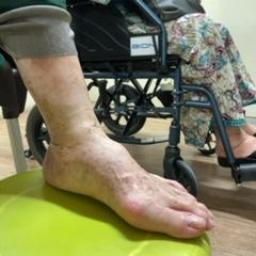Medial View -Left Foot-: (26, 94, 225, 249)
